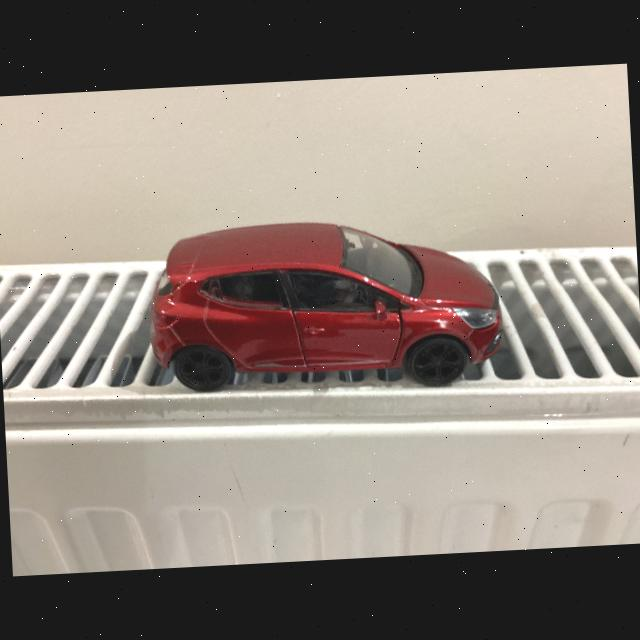Dogru_Jant: (182, 349, 227, 388), (417, 343, 462, 381)
